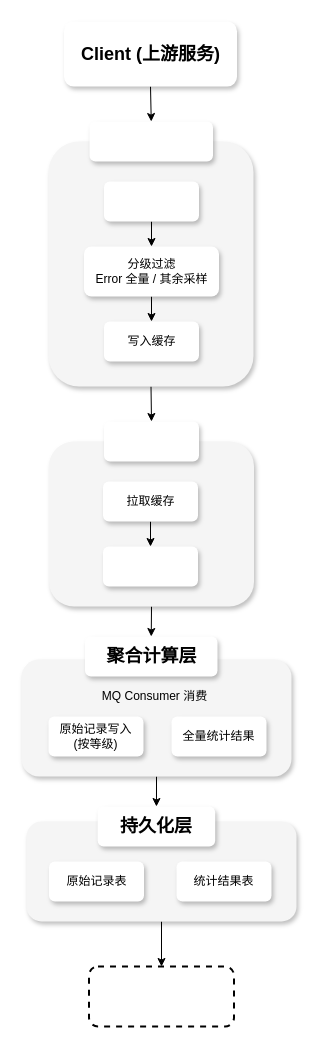
This 319x1044 diagram has some shape labels left out. Each missing label, with the centre of its shape:
rpc 接入层: pixel 151 142
下游服务？: pixel 161 996
参数校验: pixel 152 202
投递到消息队列: pixel 151 567
转发器: pixel 152 442
